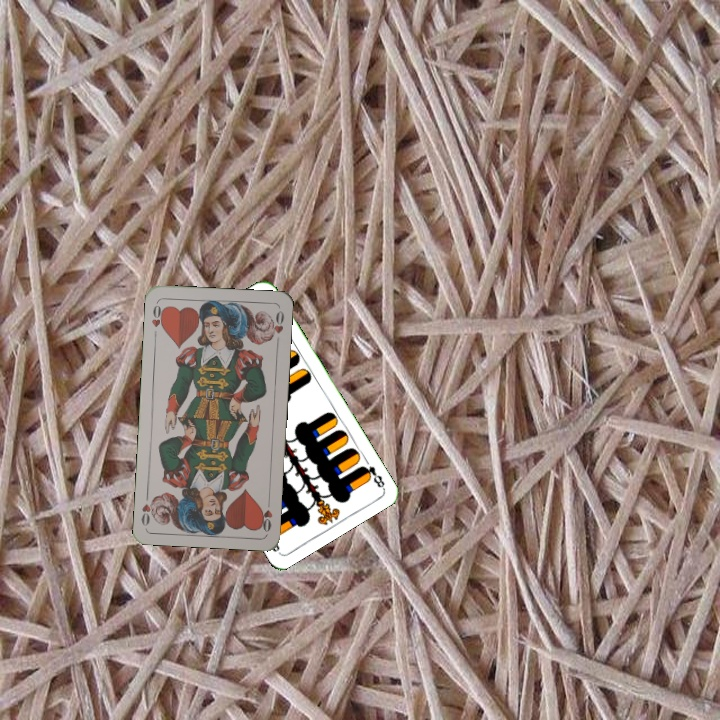E8: (357, 461, 387, 491)
HO: (147, 299, 167, 340), (257, 494, 275, 535)
